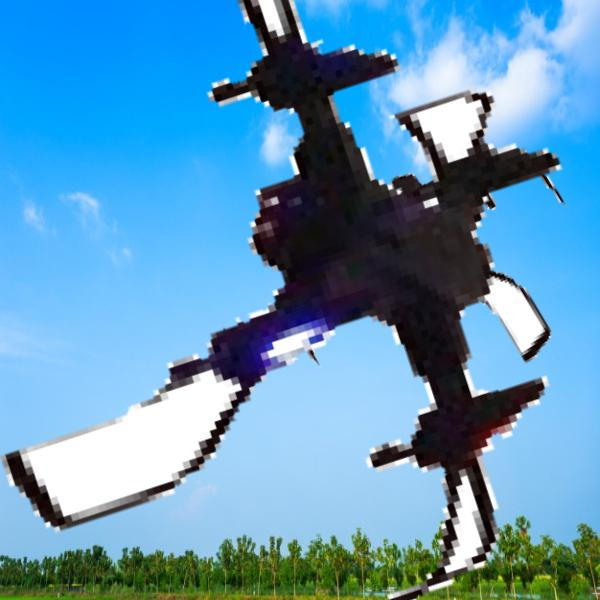drone: (274, 119, 583, 428)
